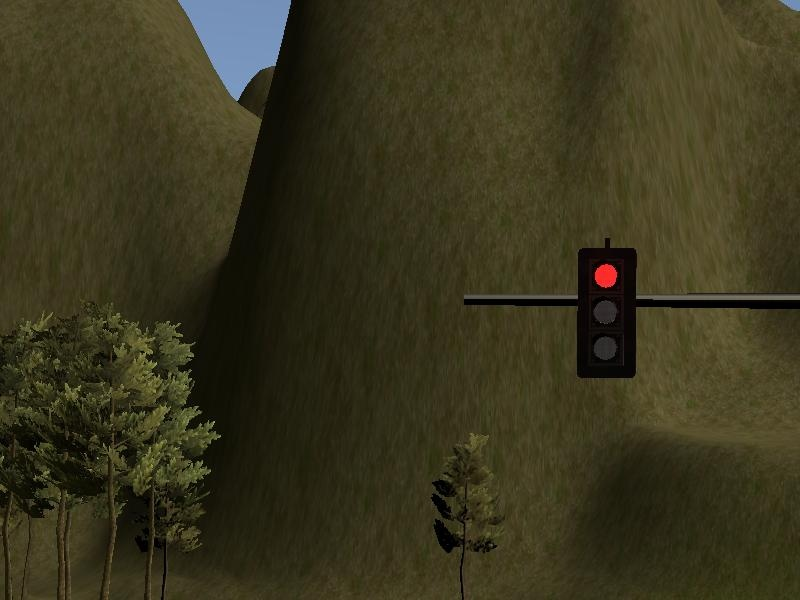RED: (577, 248, 636, 377)
